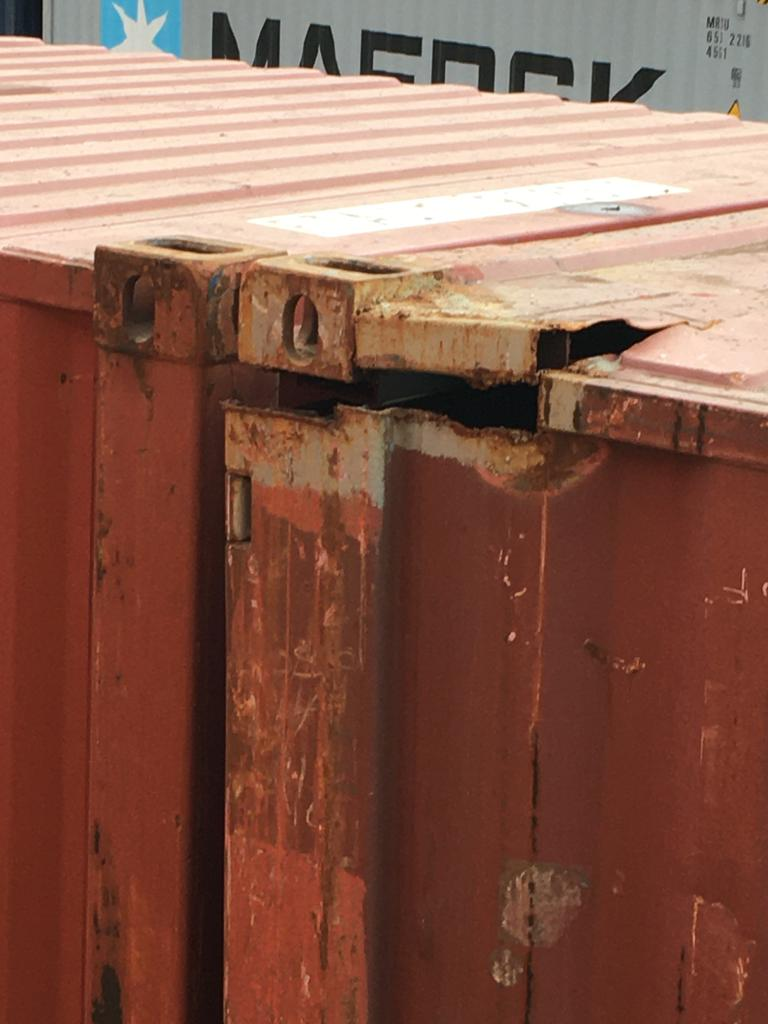severe: (229, 293, 712, 494)
